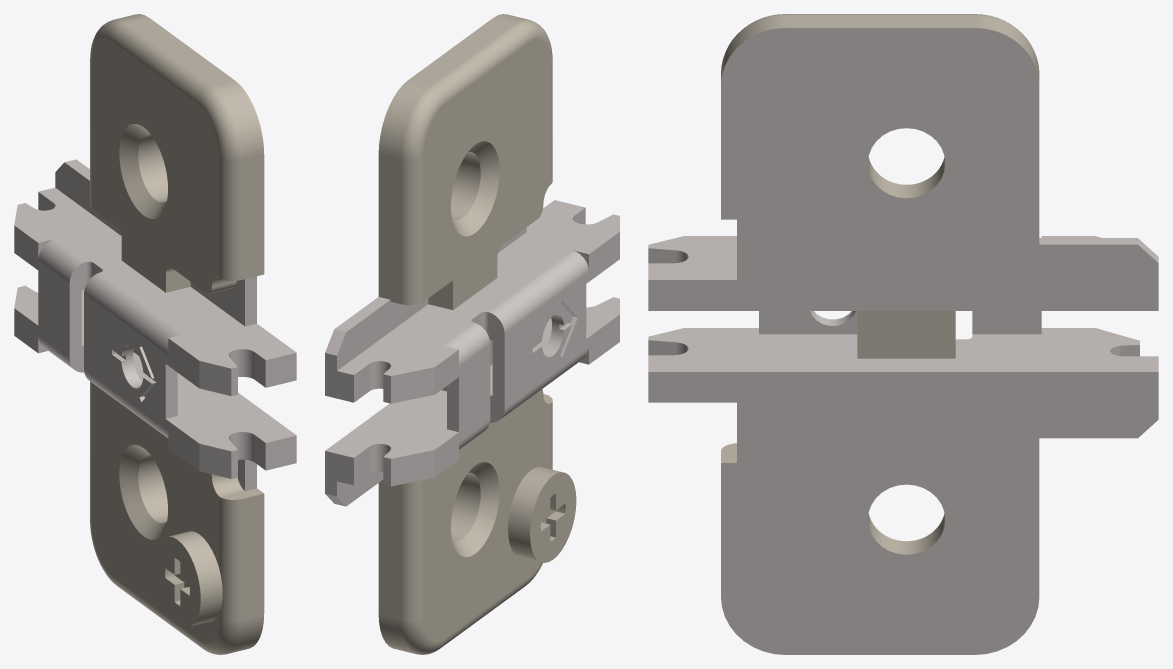
3 renders of one model, left to right at view 1: azimuth 30°, elevation 25°; view 2: azimuth 150°, elevation 25°; view 3: azimuth 270°, elevation 25°, orthographic. The views are drawn at different scales.
Visible parts, largest first — view 1: bau0012060704; view 2: bau0012060704; view 3: bau0012060704.
Boxes of the visible parts, <box> form: bau0012060704: <box>14,14,296,654</box>; bau0012060704: <box>325,14,619,654</box>; bau0012060704: <box>648,14,1158,654</box>.
Size of the model in its own units: 8.5 by 56.3 by 41.51.
